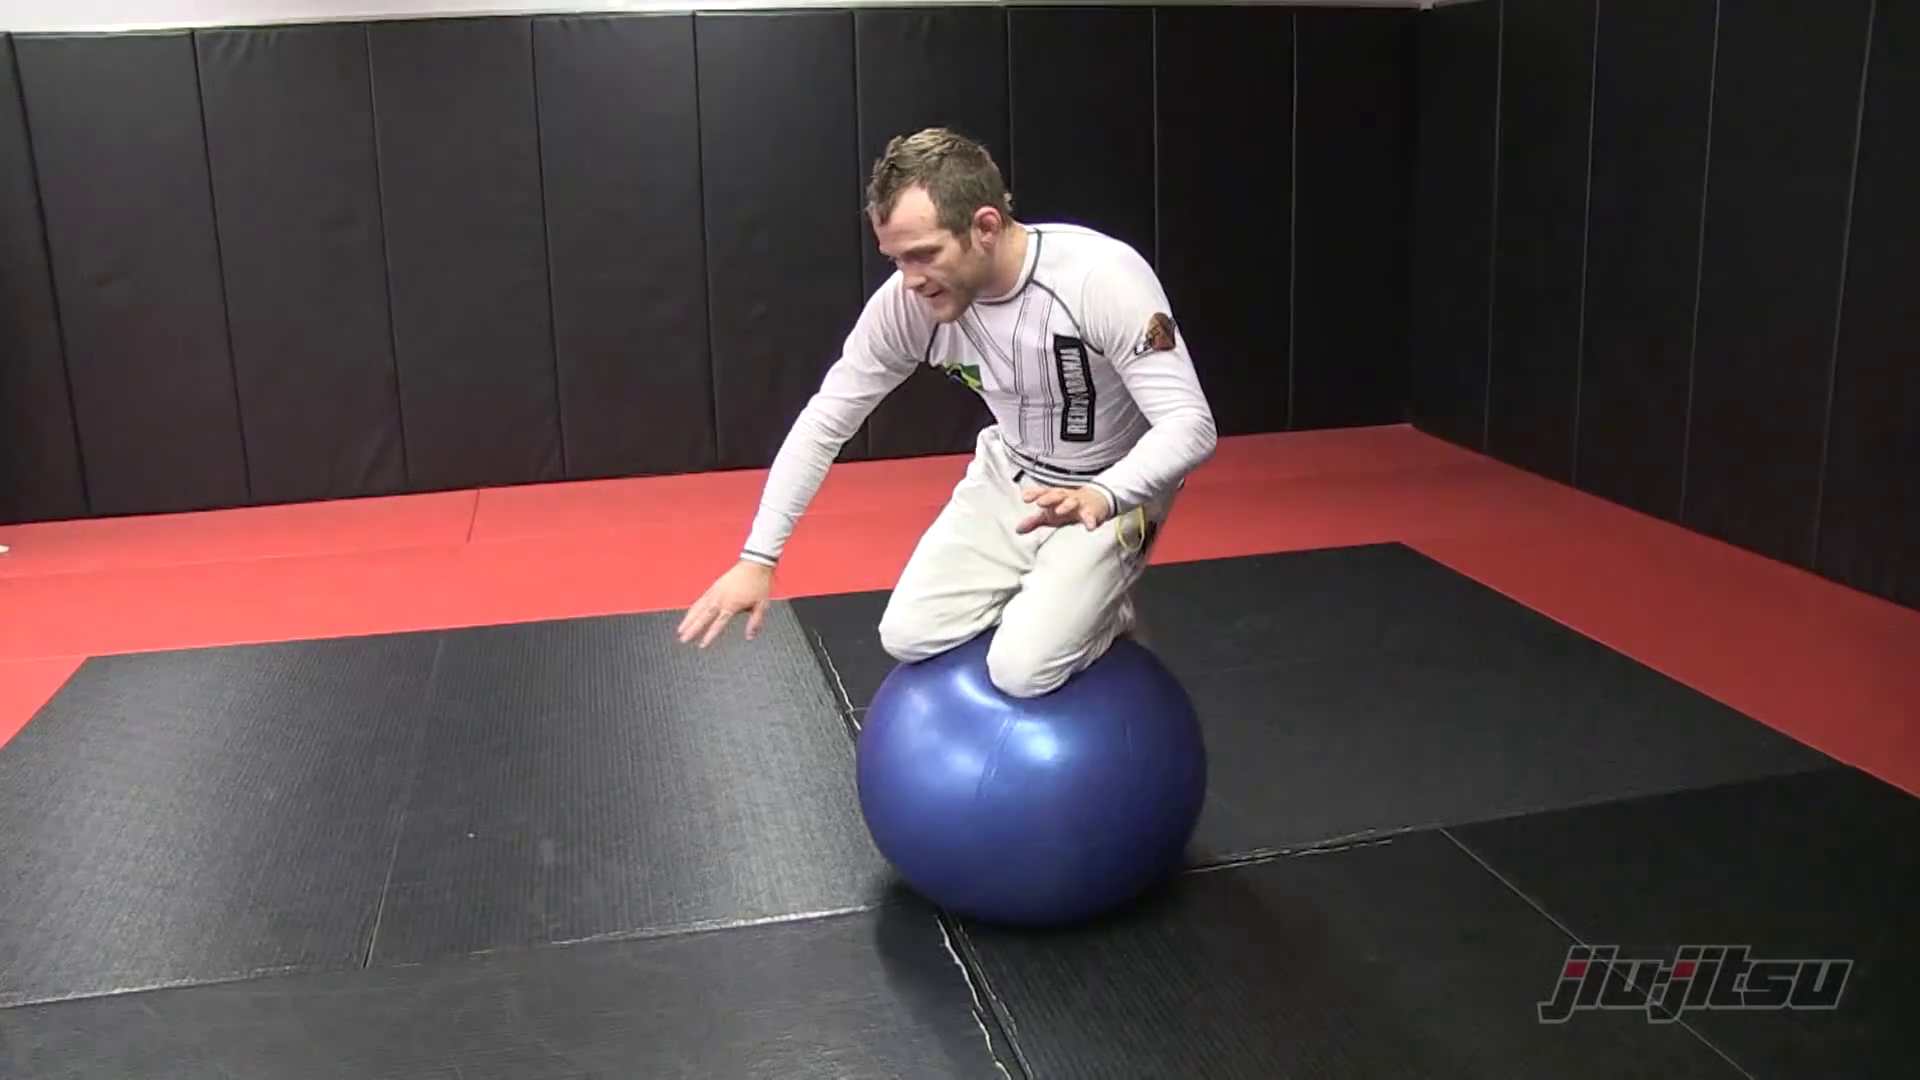yogaball: (851, 611, 1211, 930)
